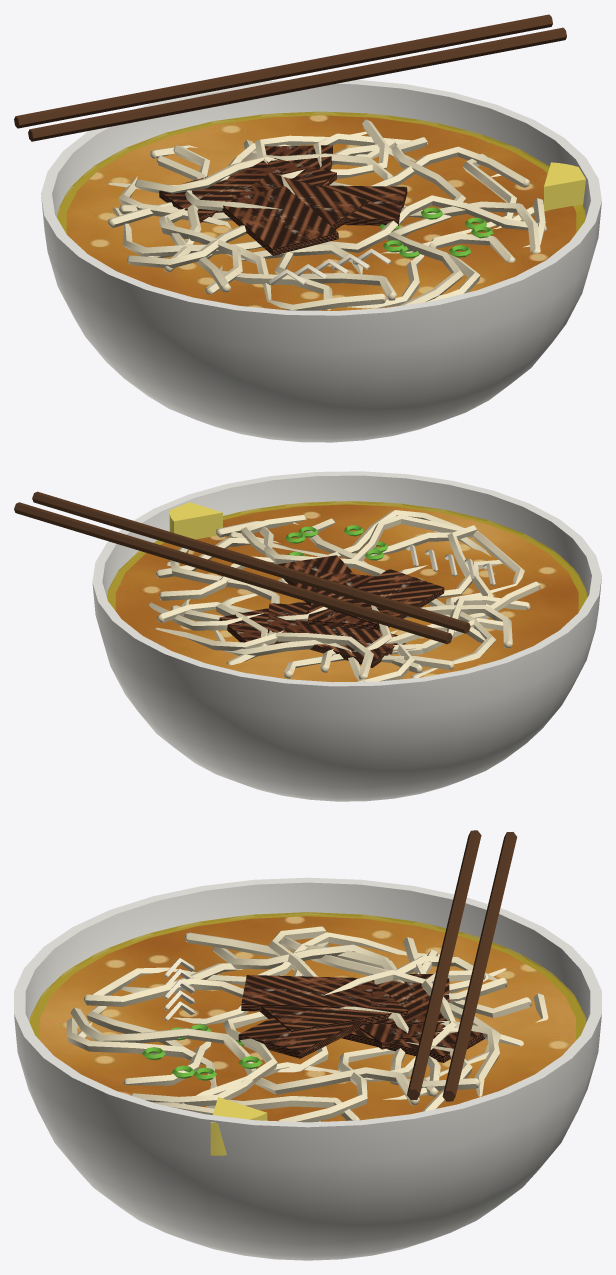
The model's file is meal_pho_bowl.glb.
3 renders of one model, top to bottom at view 1: azimuth 30°, elevation 25°; view 2: azimuth 150°, elevation 25°; view 3: azimuth 270°, elevation 25°, orthographic. The views are drawn at different scales.
Visible parts, largest first — view 1: meal_pho_bowl; view 2: meal_pho_bowl; view 3: meal_pho_bowl.
Part boxes in pixels (x1,y1,x2,y2): meal_pho_bowl: (14,14,601,442); meal_pho_bowl: (14,471,601,801); meal_pho_bowl: (14,830,601,1260).
Size of the model in its own units: 0.2554 by 0.1124 by 0.229.
Materials: 9 (2 with a texture image).
